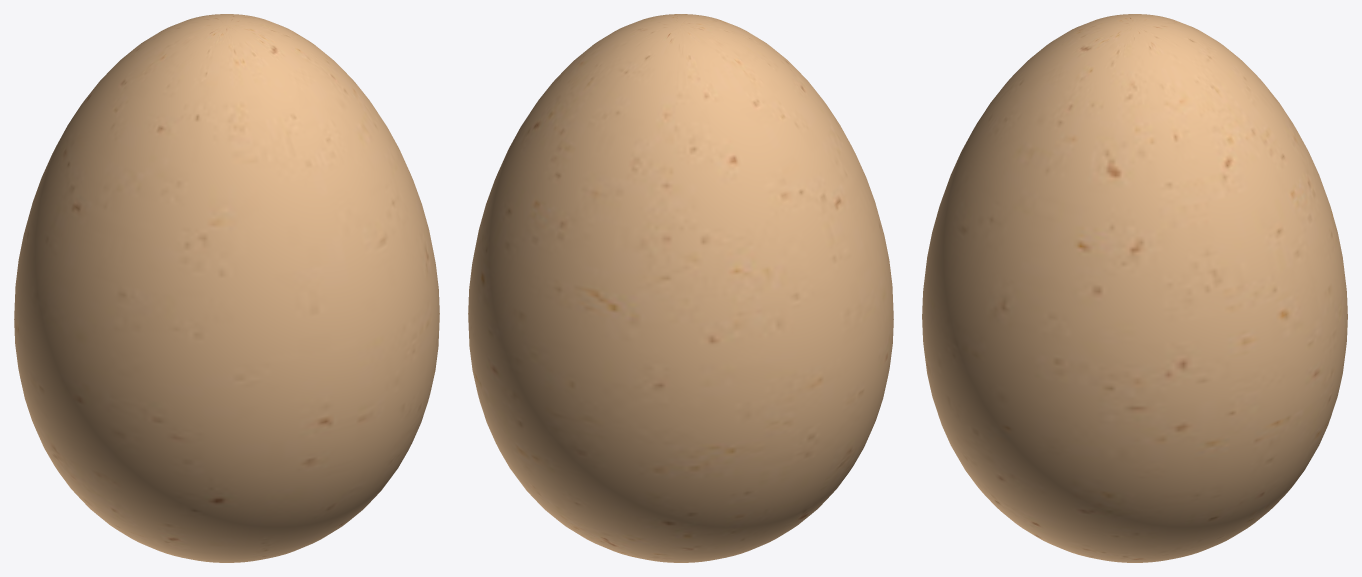
Rendered from egg.glb.
3 views of the same model, side by side, from view 1: azimuth 30°, elevation 25°; view 2: azimuth 150°, elevation 25°; view 3: azimuth 270°, elevation 25° (orthographic).
Visible parts, largest first — view 1: An Egg; view 2: An Egg; view 3: An Egg.
Part boxes in pixels (x1,y1,x2,y2): An Egg: (14,14,439,562); An Egg: (468,14,893,562); An Egg: (922,14,1347,562).
Size of the model in its own units: 2 by 2.69 by 2.
1 material, 1 textured.
